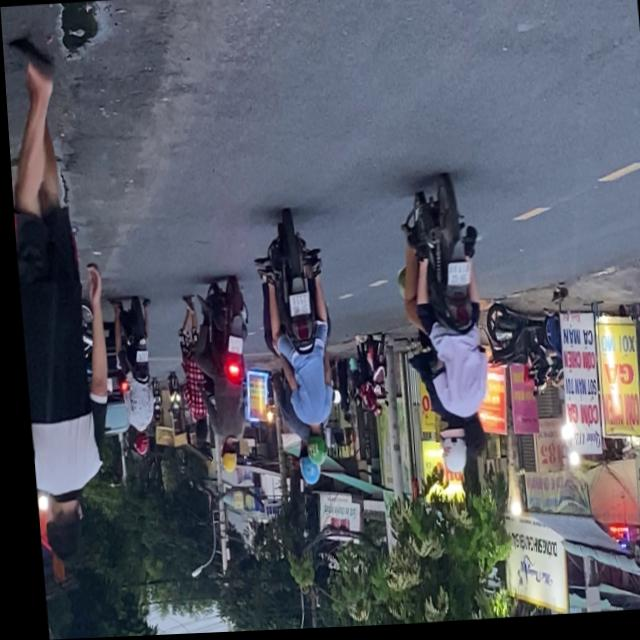helmet: (431, 422, 463, 477), (298, 428, 322, 468), (291, 450, 316, 487), (213, 444, 232, 474), (127, 430, 143, 456)
licenseplate: (386, 175, 494, 479), (247, 212, 338, 489), (181, 276, 253, 477), (105, 295, 156, 458)
motorcyclist: (456, 415, 482, 462)
nohelmet: (442, 266, 466, 290), (283, 294, 305, 317), (221, 336, 237, 355), (130, 350, 142, 363)
